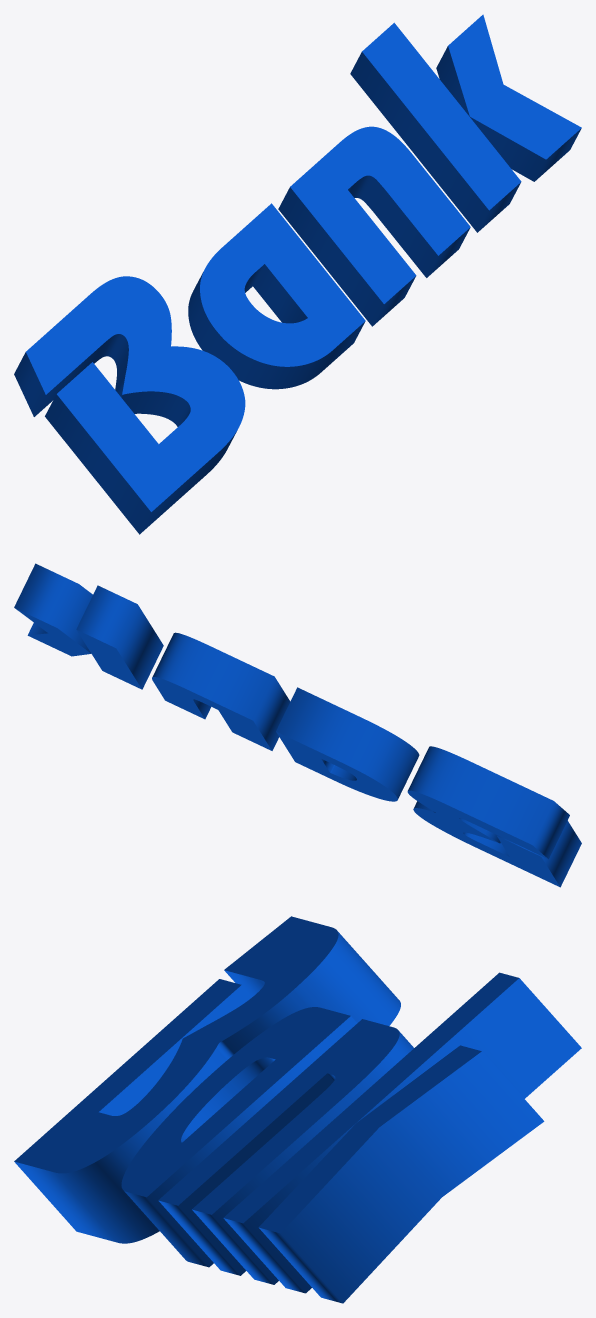
3 renders of one model, top to bottom at view 1: azimuth 30°, elevation 25°; view 2: azimuth 150°, elevation 25°; view 3: azimuth 270°, elevation 25°, orthographic. The views are drawn at different scales.
Parts seen in each view (by area): view 1: Text; view 2: Text; view 3: Text.
Part boxes in pixels (x1,y1,x2,y2): Text: (14, 14, 581, 534); Text: (14, 563, 581, 887); Text: (14, 916, 581, 1303).
Bounding box in the file's own units: 446 × 250 × 221.
